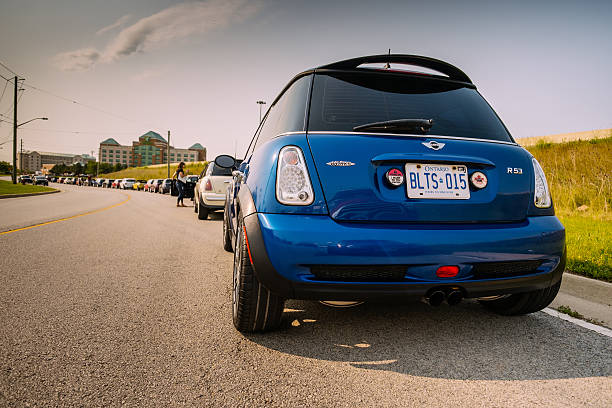licence: (403, 155, 472, 203)
